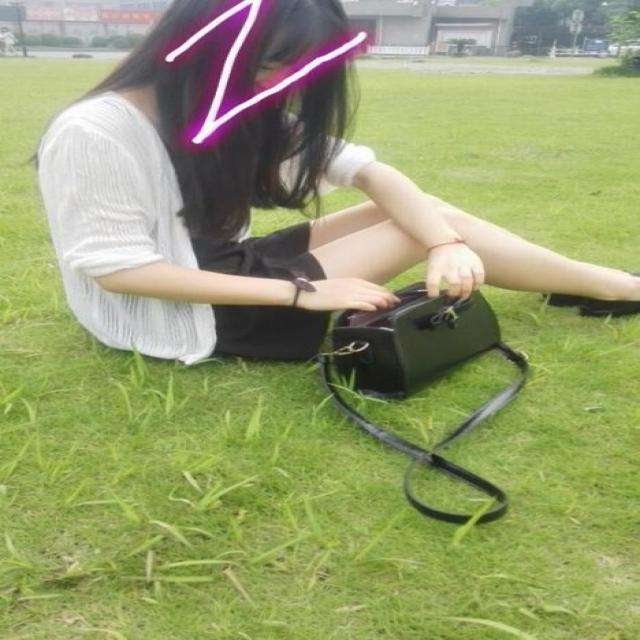long sleeve outwear: (49, 95, 197, 362)
skirt: (90, 223, 323, 360)
